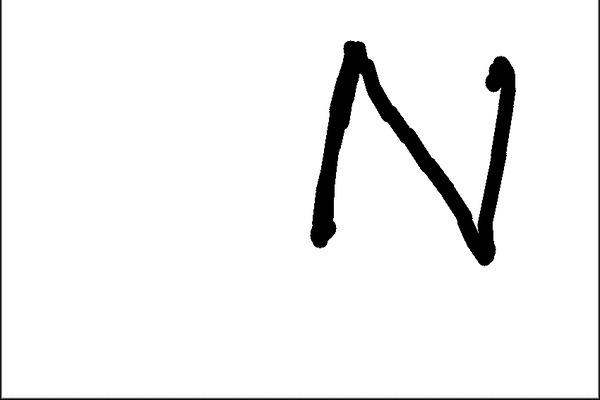N: (305, 34, 519, 268)
